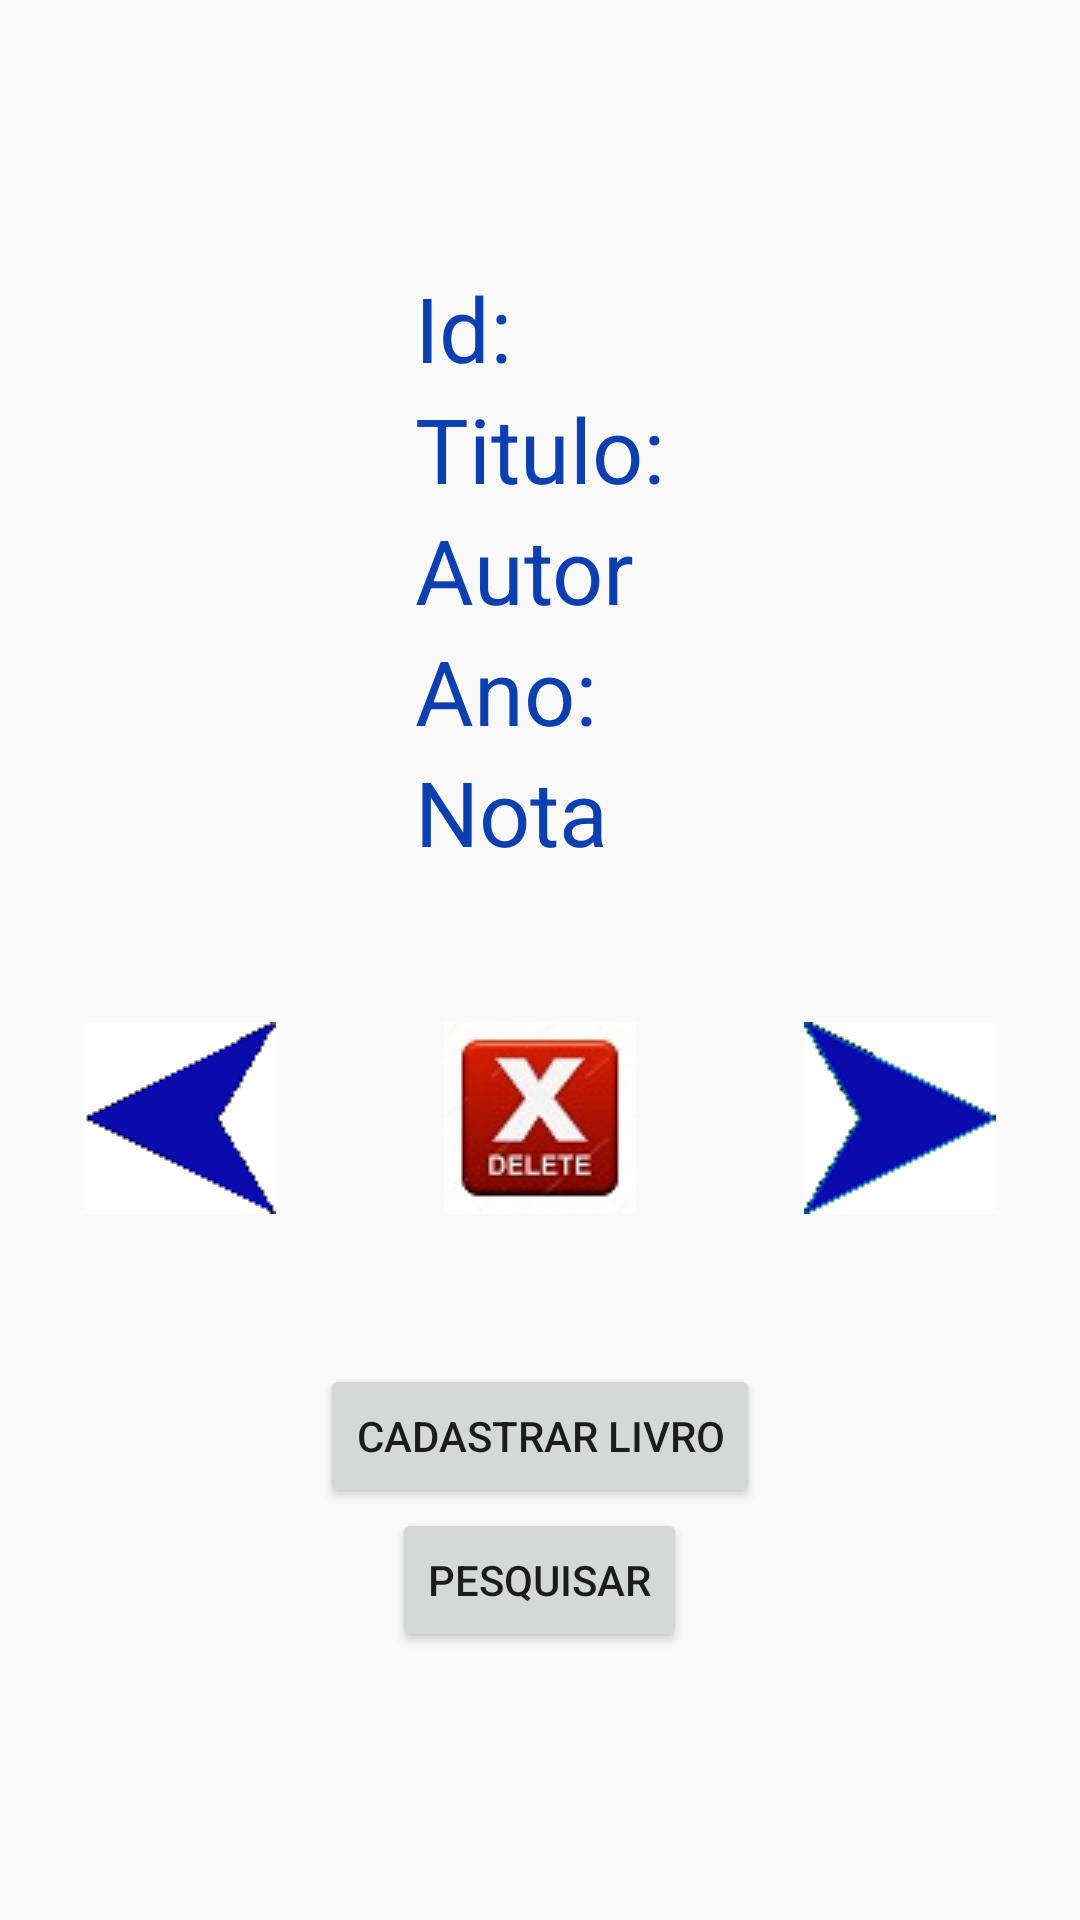

Named icons in this screenshot (1080×1920) and their centers, [x,y]:
direita: [900,1118]
esquerda: [181,1118]
